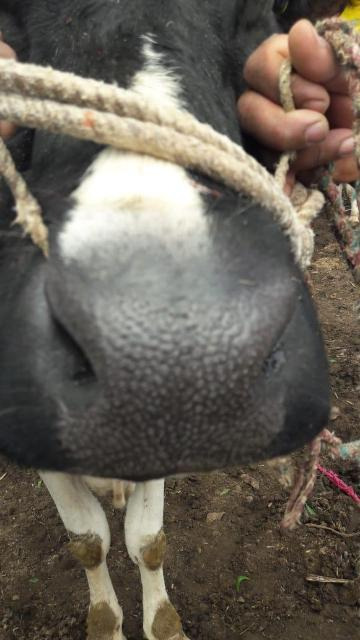Muzzle: (88, 294, 274, 471)
